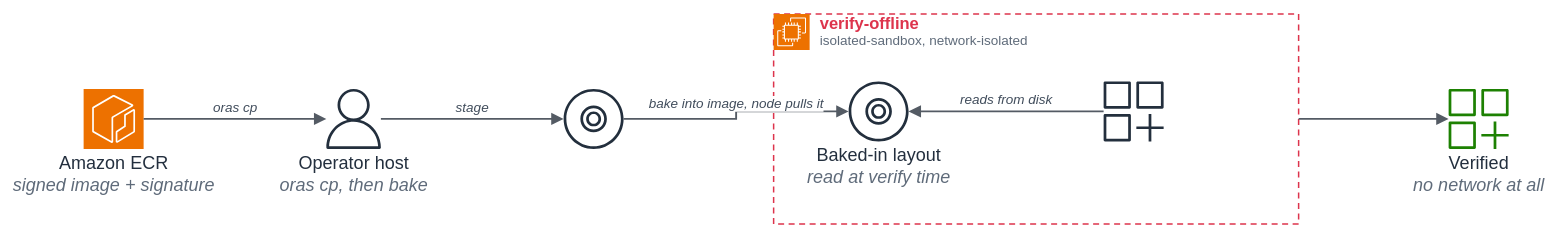
This 1557x237 diagram has some shape labels left out. Here are the shapes that lost their labels. From the top down, the centre of each, then its label:
At (x=593, y=118): "OCI layout on disk image + signature".
At (x=1133, y=111): "notation verify --oci-layout".
